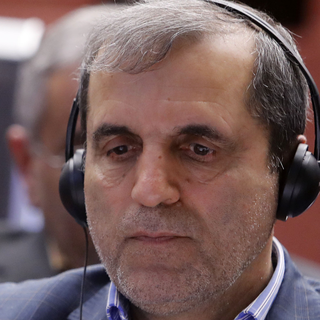eye: (99, 136, 143, 164), (175, 136, 221, 161)
